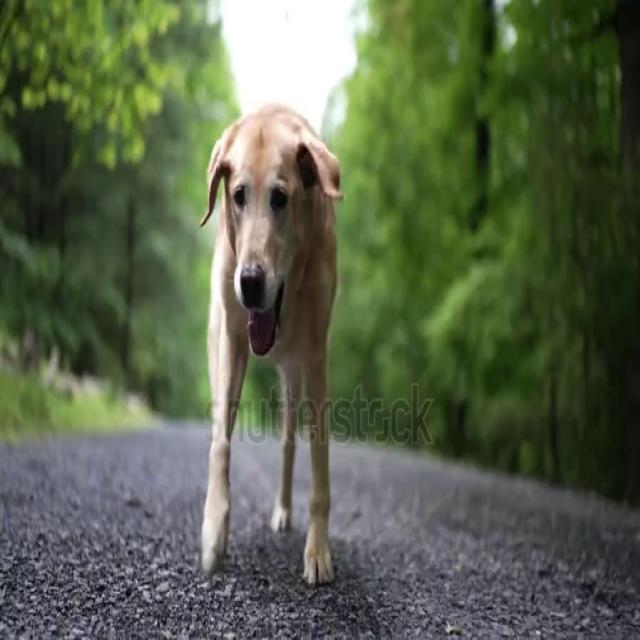normal_animals: (194, 97, 346, 591)
